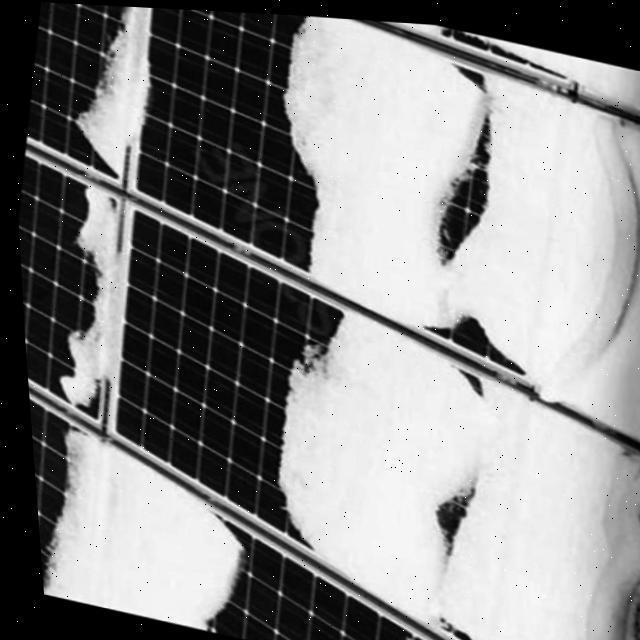Anomaly Solar Panel: (15, 2, 640, 640)
Snow: (265, 12, 640, 640), (24, 1, 197, 418), (27, 422, 266, 638)
